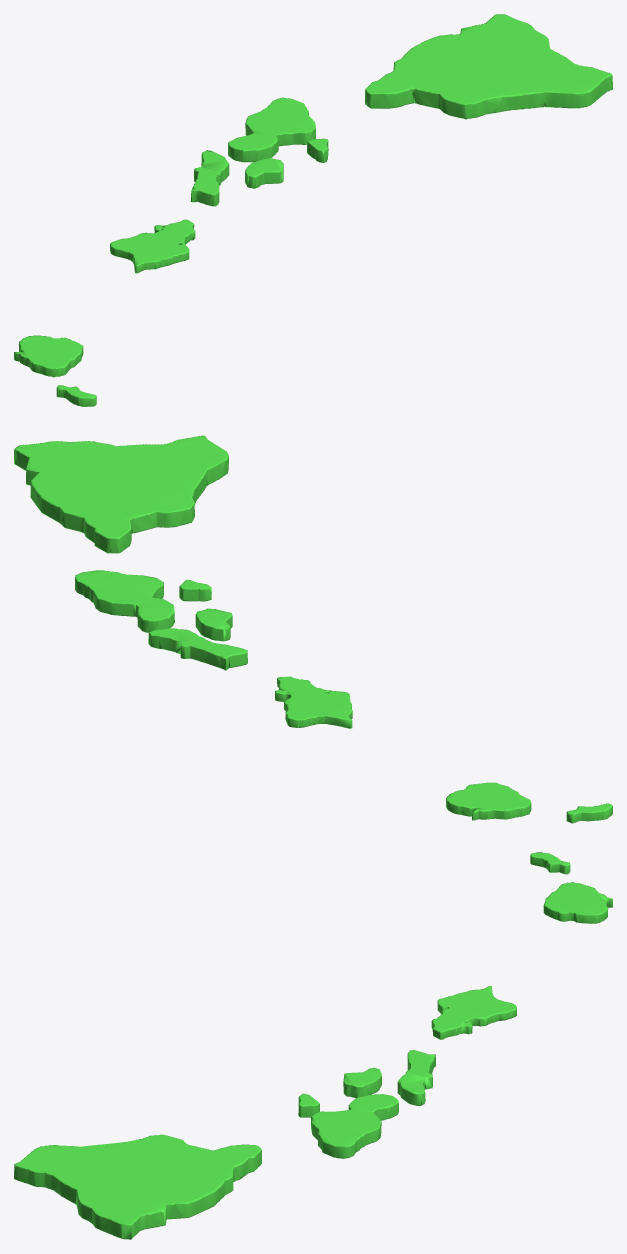
File: Hawaii model.obj
The picture shows the model from 3 angles, top to bottom: view 1: azimuth 90°, elevation 25°; view 2: azimuth 150°, elevation 25°; view 3: azimuth 270°, elevation 25°; orthographic projection. The views are drawn at different scales.
Visible parts, largest first — view 1: 1_1; view 2: 1_1; view 3: 1_1.
Boxes of the visible parts, x1,y1,x2,y2 form: 1_1: [14, 14, 612, 406]; 1_1: [14, 435, 612, 823]; 1_1: [14, 852, 612, 1239].
Bounding box in the file's own units: 2.18 × 0.0424 × 1.46.
Materials: 1 (1 with a texture image).
